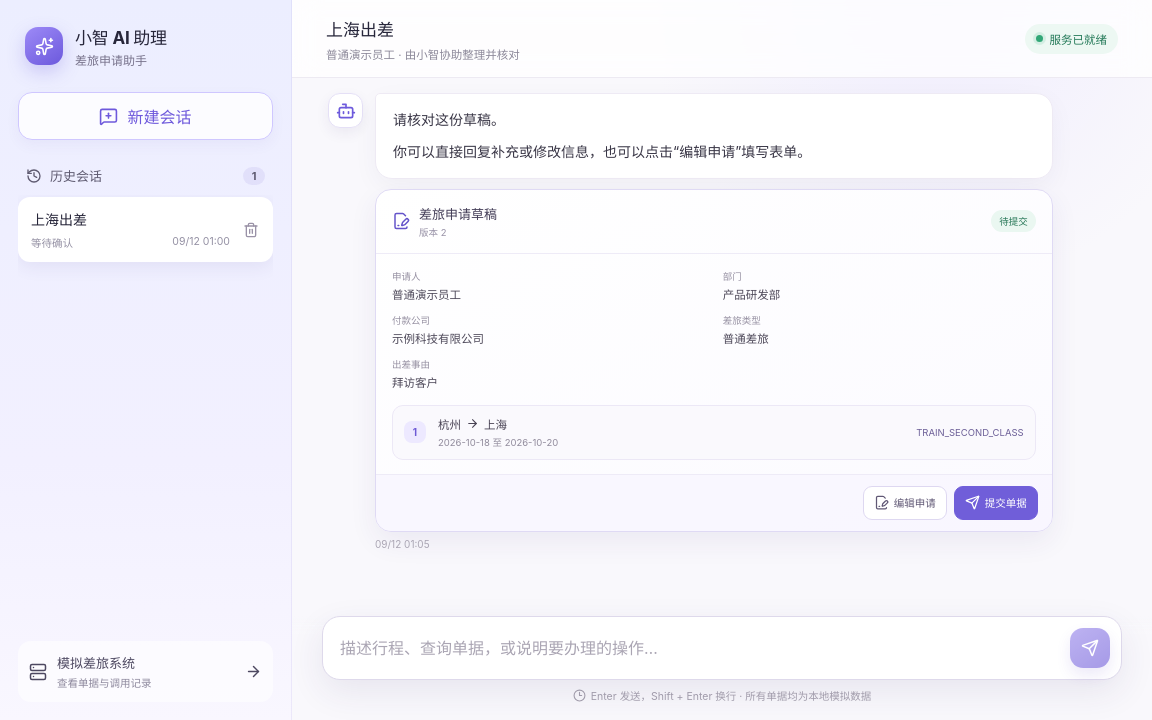
草稿编辑抽屉 › 展示完整字段和行程操作，且没有保存草稿入口
The image size is (1152, 720).
(page scrolled)
Click the button "编辑申请" at {"x": 905, "y": 503}, box [863,486,947,520]
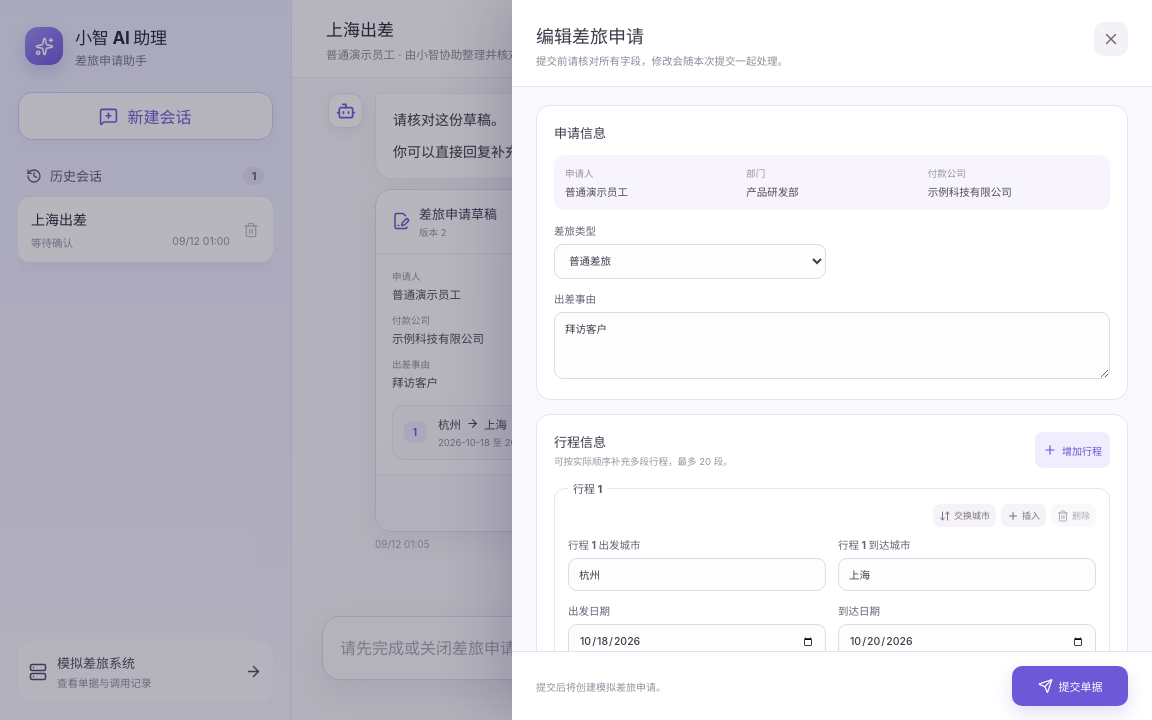
Expected: the text "普通演示员工" is shown, [565,186,628,199]
Expected: the text "产品研发部" is shown, [746,186,799,199]
Expected: the text "示例科技有限公司" is shown, [928,186,1012,199]
Click the button with aria-label "在此后插入行程" at {"x": 1024, "y": 516}, box [1001,504,1046,527]
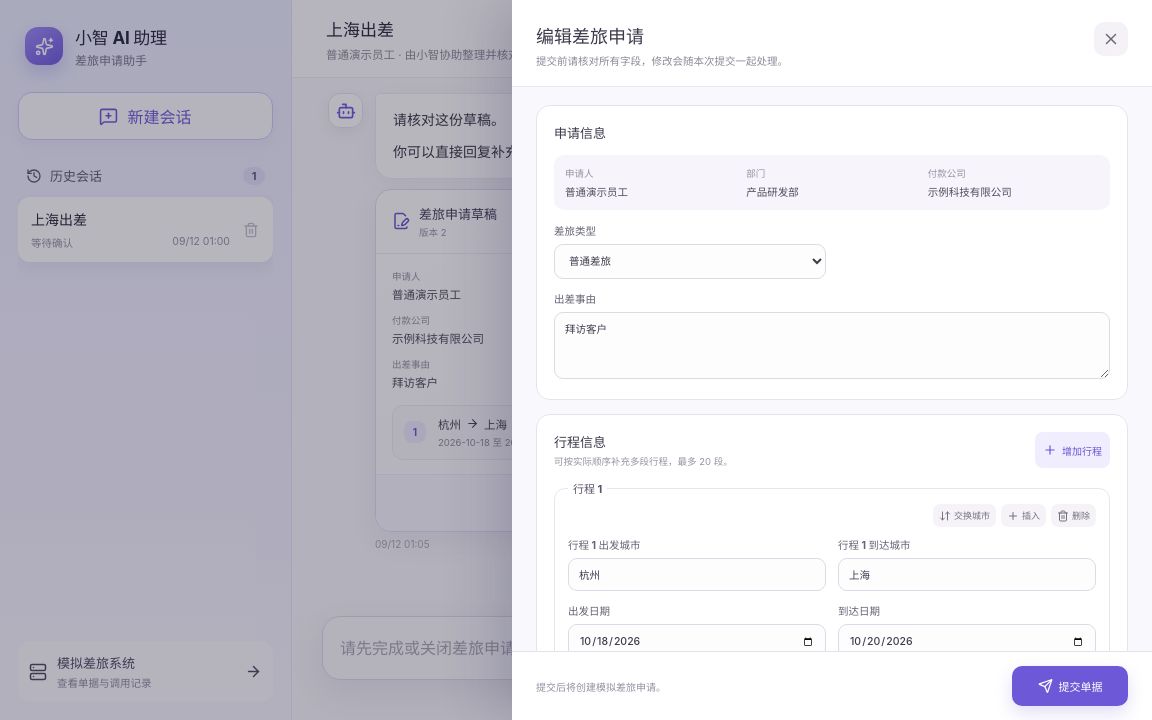
Click the button with aria-label "交换行程 1 的城市" at {"x": 964, "y": 516}, box [933,504,996,527]
(page scrolled)
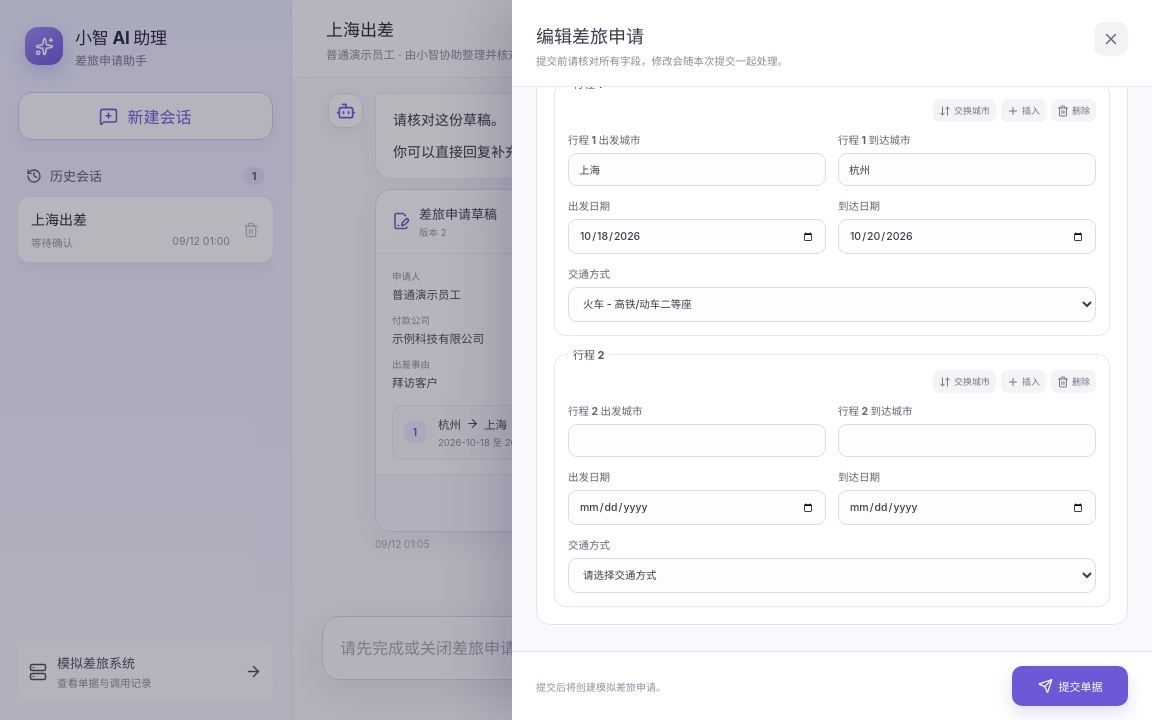
Expected: the field labelled "行程 1 出发城市" holds "上海", [568,153,826,186]
Click the button with aria-label "删除行程 2" at {"x": 1074, "y": 382}, box [1051,370,1096,393]
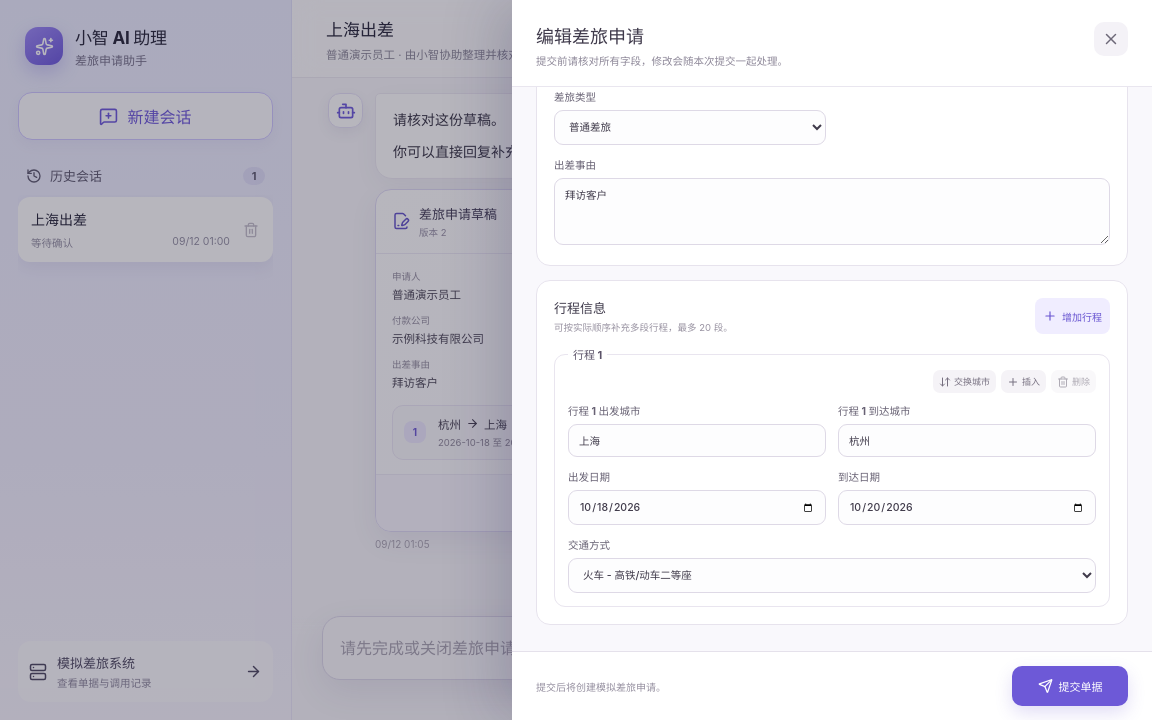
Click the button "增加行程" at {"x": 1072, "y": 316}, box [1035,298,1110,334]
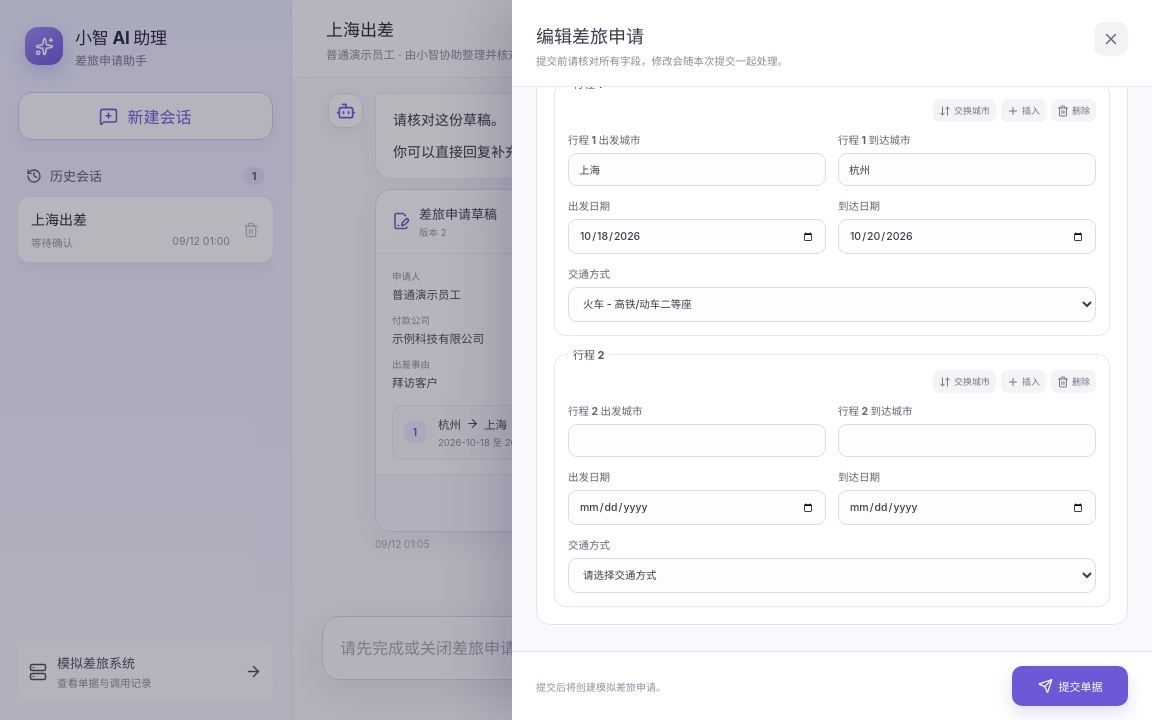
Expected: the text "行程 2" is shown, [573,348,604,362]
